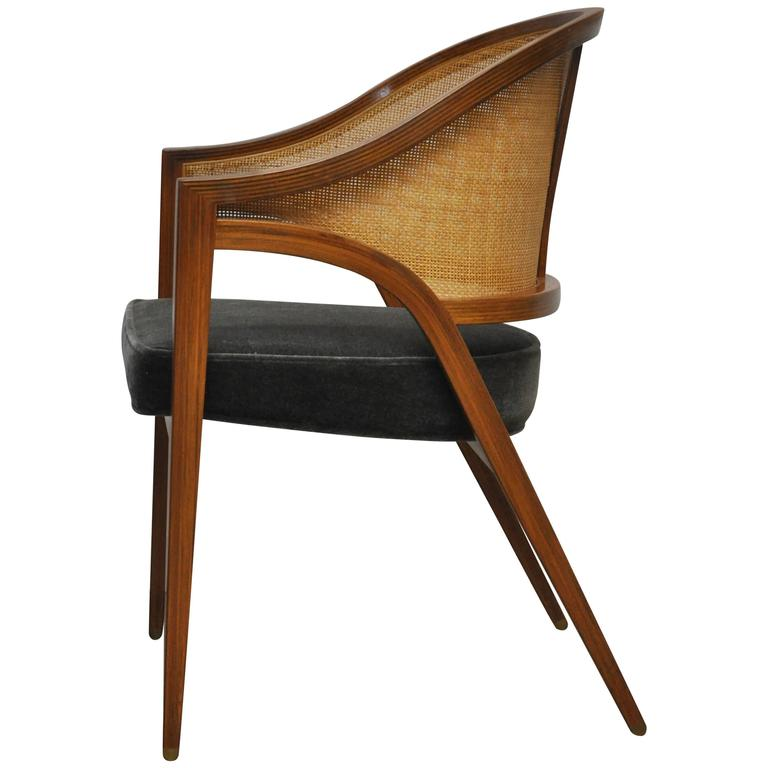chairs: (124, 6, 674, 761)
